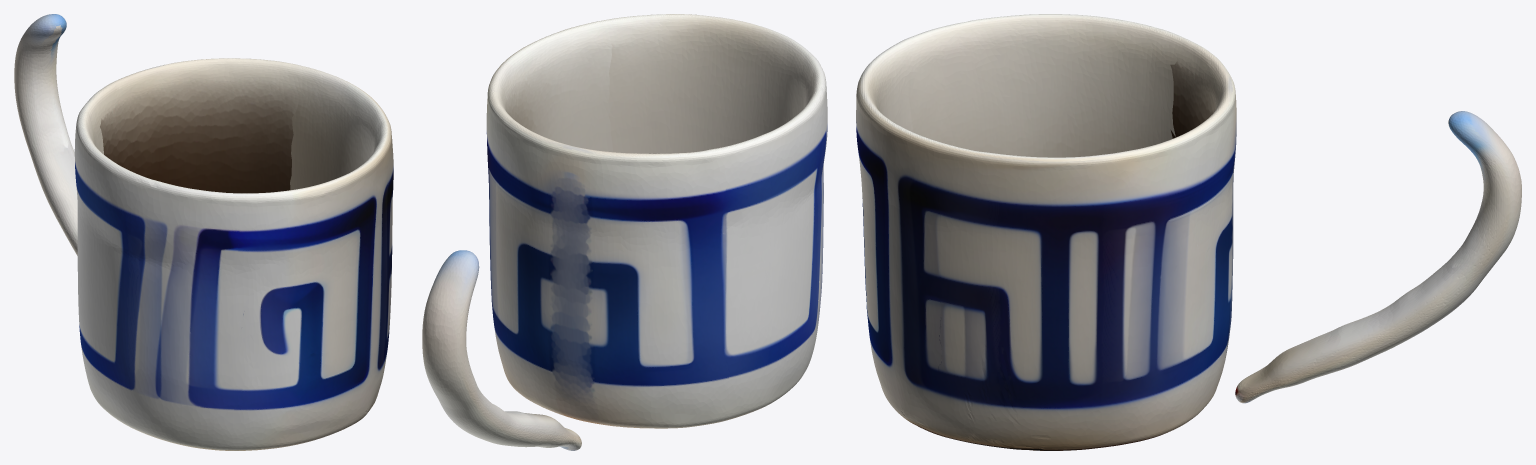
The model's file is ceramic-mug.glb.
3 renders of one model, left to right at view 1: azimuth 30°, elevation 25°; view 2: azimuth 150°, elevation 25°; view 3: azimuth 270°, elevation 25°, orthographic. The views are drawn at different scales.
Parts seen in each view (by area): view 1: temp_mesh.ply; view 2: temp_mesh.ply; view 3: temp_mesh.ply.
Part boxes in pixels (left/top/right/bottom): temp_mesh.ply: left=14, top=14, right=393, bottom=450; temp_mesh.ply: left=422, top=14, right=827, bottom=450; temp_mesh.ply: left=856, top=14, right=1521, bottom=450.
Size of the model in its own units: 1.06 by 1.04 by 1.97.
Materials: 1 (1 with a texture image).
